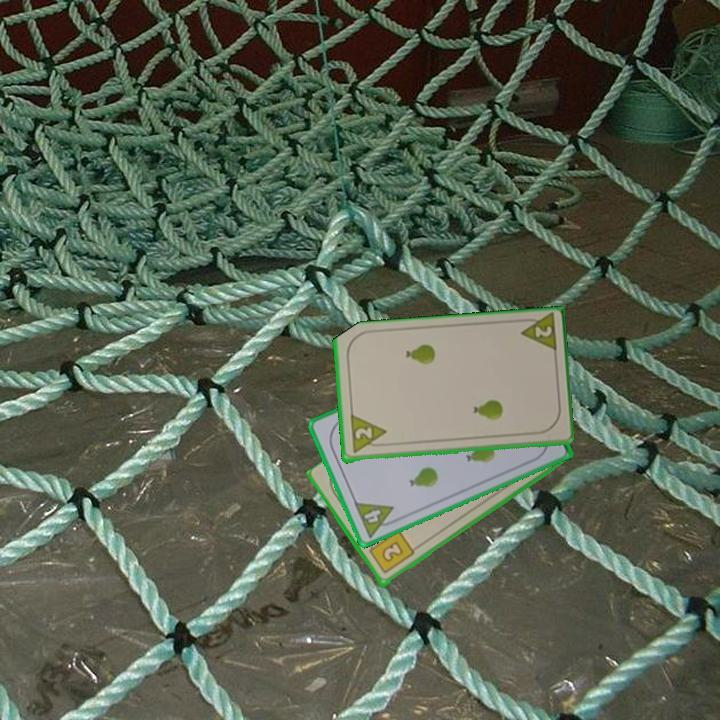2b: (364, 527, 417, 577)
2p: (515, 312, 559, 356), (351, 424, 375, 443)
4p: (350, 498, 401, 541)
